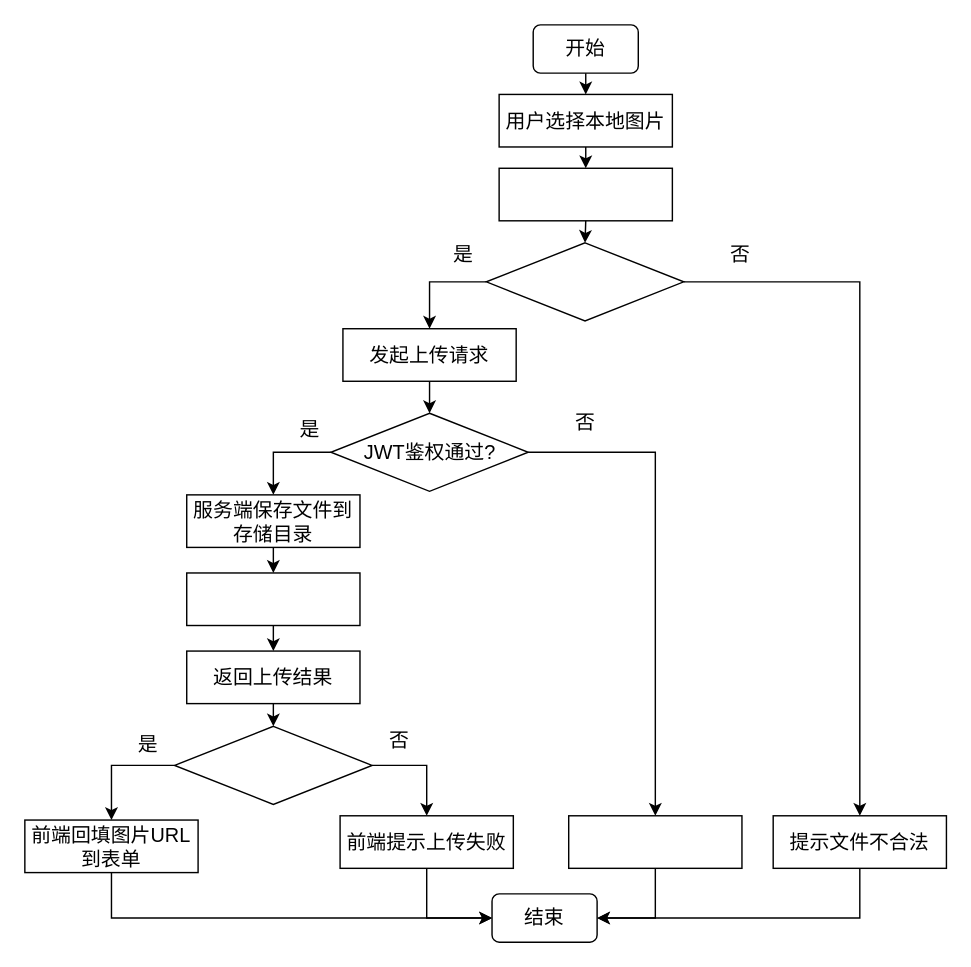
Some shapes in this 971 by 967 pixel diagram are drawn without their labels. Here are the shapes that lost their labels. From the top down, the box of each, then its label:
(498, 167, 672, 221): 前端校验文件类型与大小
(485, 241, 684, 321): 文件校验通过?
(185, 572, 360, 626): 生成访问URL
(173, 725, 372, 804): 上传成功?
(567, 814, 742, 868): 返回未授权
